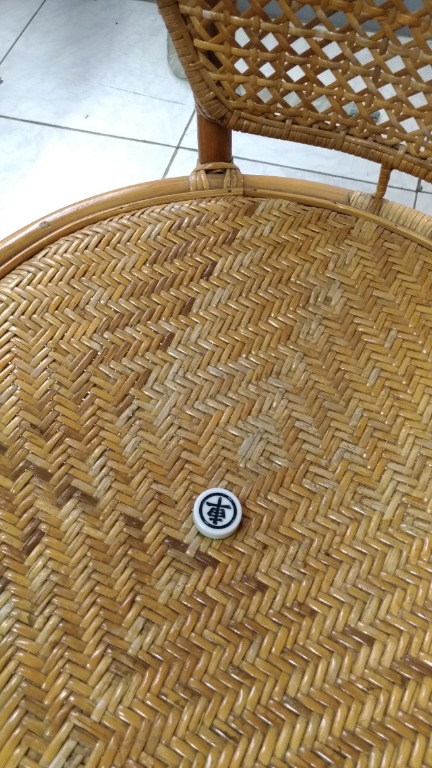b-king: (167, 473, 272, 555)
